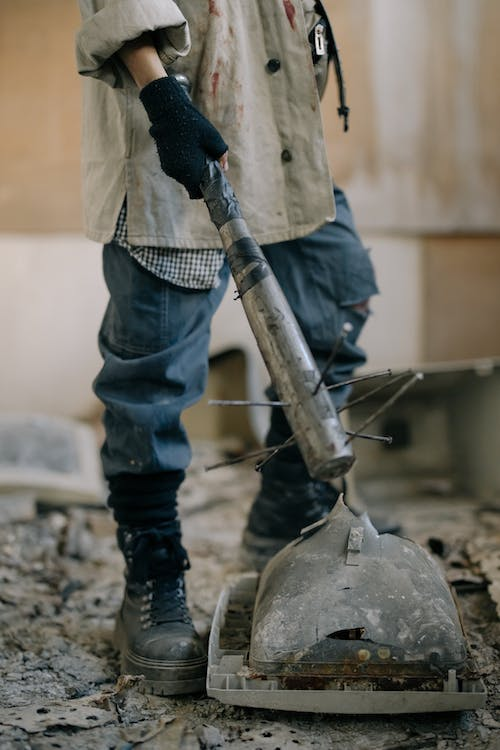blood: (189, 0, 300, 136), (257, 320, 339, 480)
